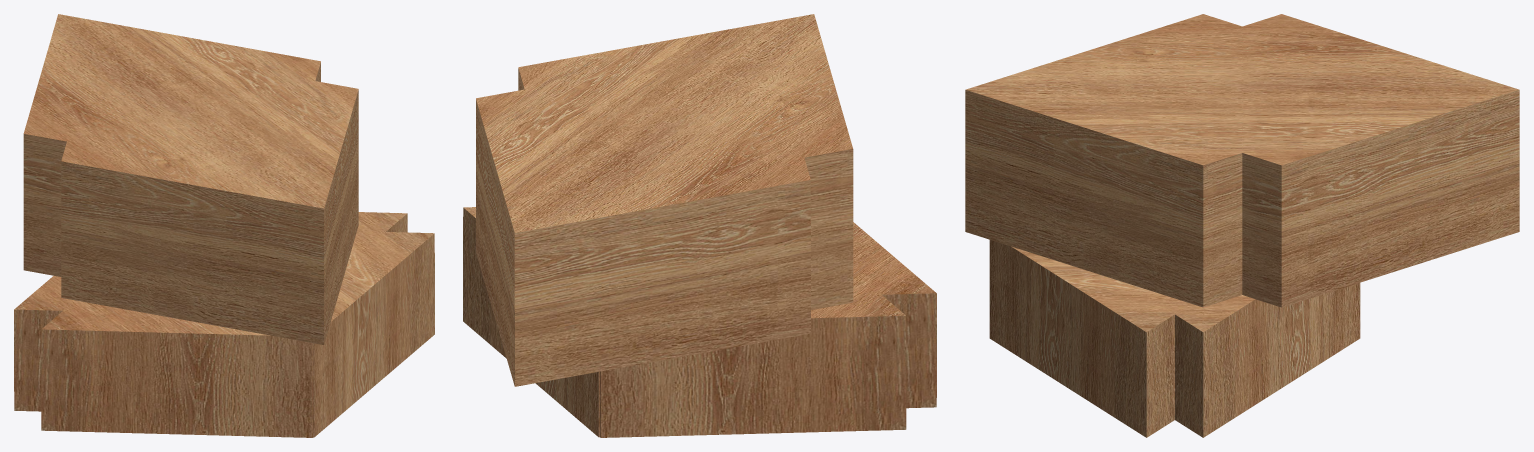
Rendered from 21700_gpt-only.glb.
The picture shows the model from 3 angles, left to right: view 1: azimuth 30°, elevation 25°; view 2: azimuth 150°, elevation 25°; view 3: azimuth 270°, elevation 25°; orthographic projection. The views are drawn at different scales.
Visible parts, largest first — view 1: ParentEmpty; view 2: ParentEmpty; view 3: ParentEmpty.
Part boxes in pixels (left/top/right/bottom): ParentEmpty: left=14, top=14, right=434, bottom=437; ParentEmpty: left=463, top=14, right=936, bottom=437; ParentEmpty: left=965, top=14, right=1519, bottom=437.
Bounding box in the file's own units: 0.8544 × 0.4938 × 1.
Materials: 1 (1 with a texture image).
